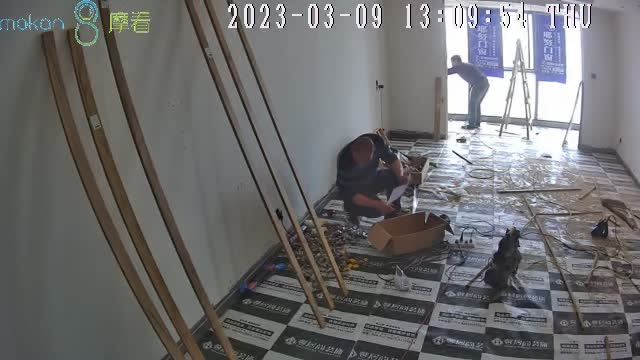people: (336, 132, 412, 228), (447, 55, 489, 132)
window: (446, 3, 583, 128)
